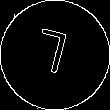L_S: (34, 27, 76, 83)
